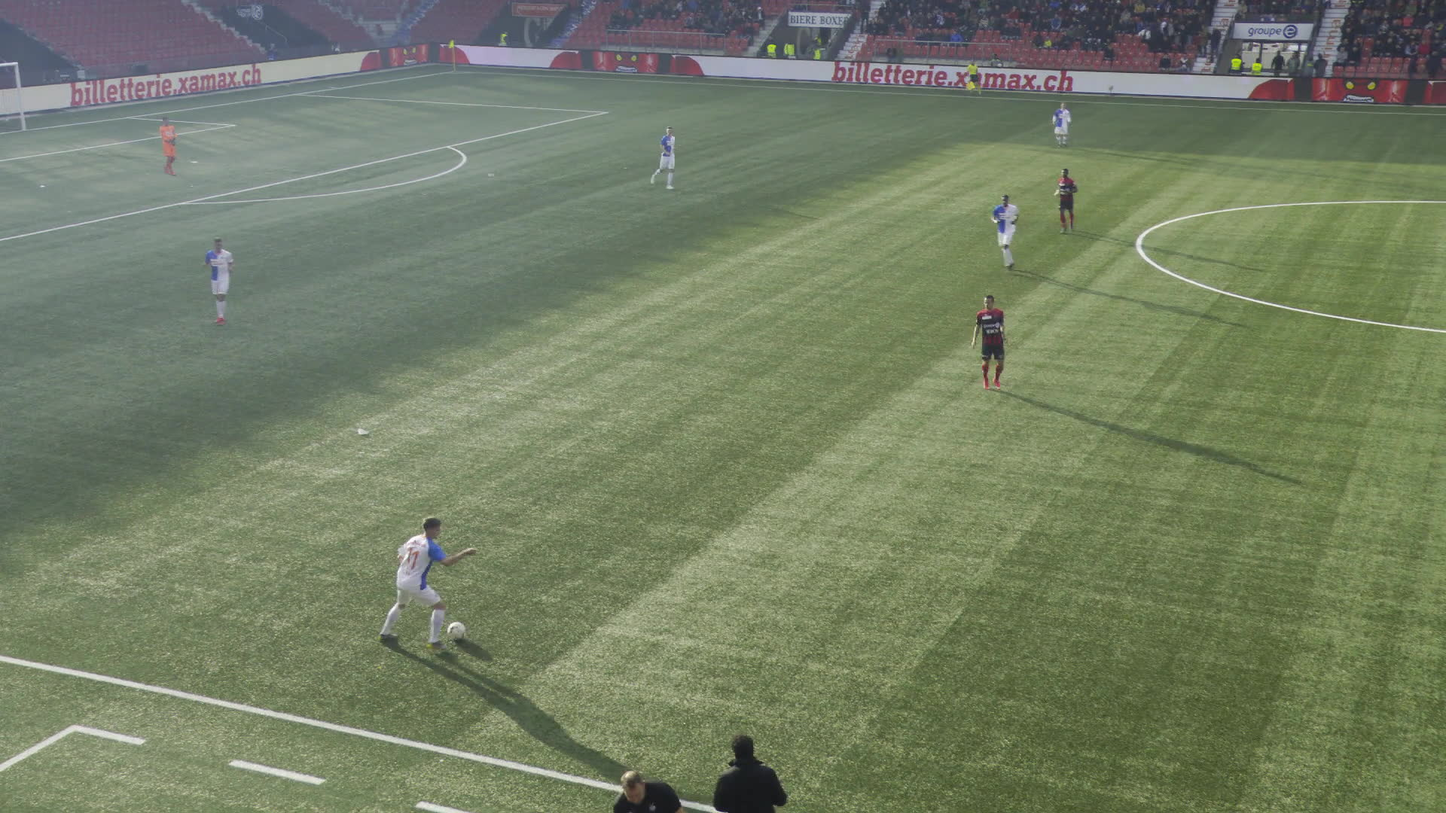ball: (447, 622, 464, 638)
player: (377, 518, 476, 647), (969, 297, 1005, 391), (204, 237, 238, 325), (991, 194, 1020, 273), (1054, 168, 1079, 233), (651, 125, 676, 188), (159, 115, 177, 175), (1052, 102, 1071, 148)
referee: (966, 60, 981, 96)
